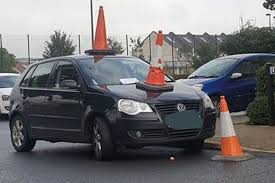car: (10, 55, 215, 153), (176, 54, 275, 107), (1, 73, 21, 116)
cone: (210, 95, 252, 162), (135, 30, 174, 91), (84, 7, 117, 56)
